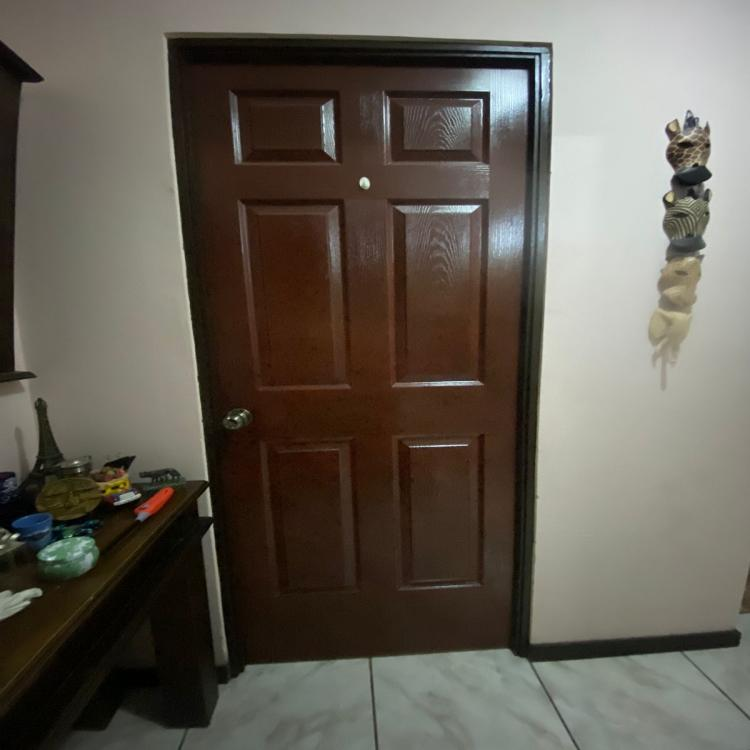ClosedDoor: (159, 27, 553, 687)
